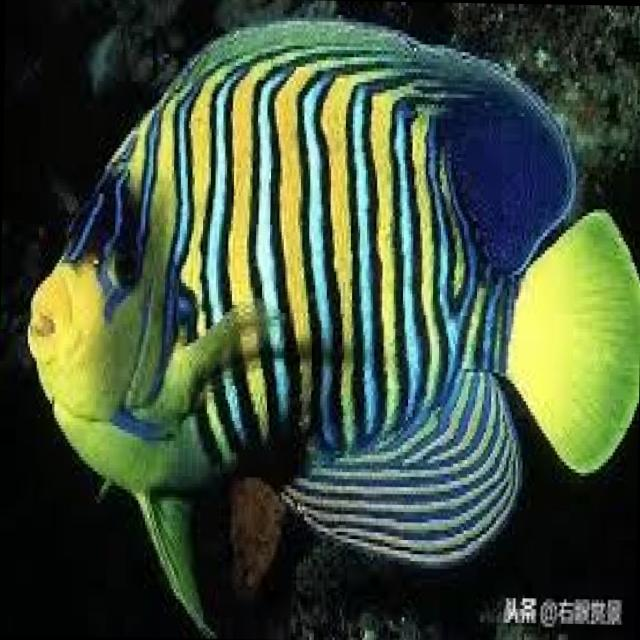AngelFish: (25, 12, 640, 635)
